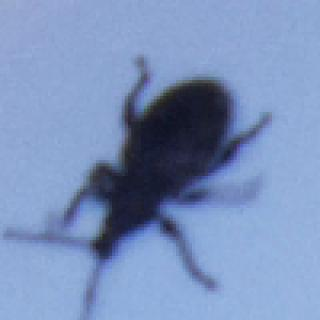bvw: (6, 52, 268, 311)
